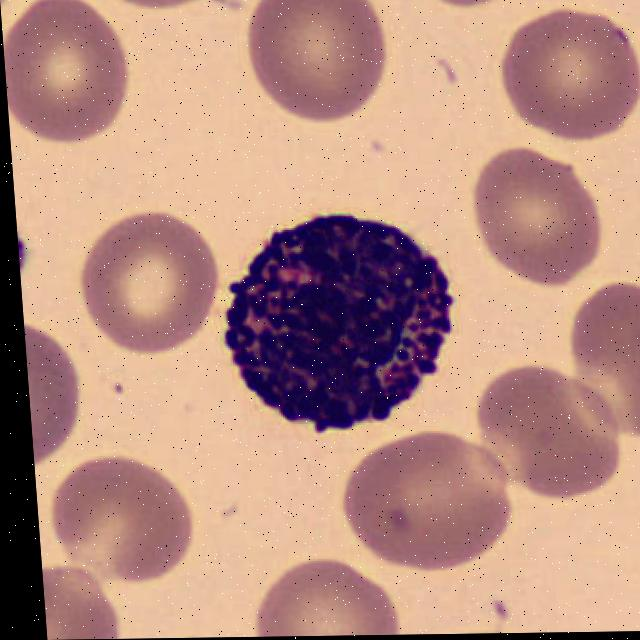basophil: (208, 197, 473, 434)
rbc: (451, 146, 623, 283), (239, 0, 406, 139), (338, 438, 518, 562), (484, 11, 640, 148), (53, 453, 206, 584), (487, 355, 623, 502), (4, 6, 143, 137), (67, 229, 220, 337), (242, 556, 406, 637), (557, 294, 640, 431), (23, 305, 79, 466), (42, 564, 132, 640), (429, 620, 546, 634), (421, 0, 517, 16), (147, 624, 229, 639), (116, 0, 207, 9)
